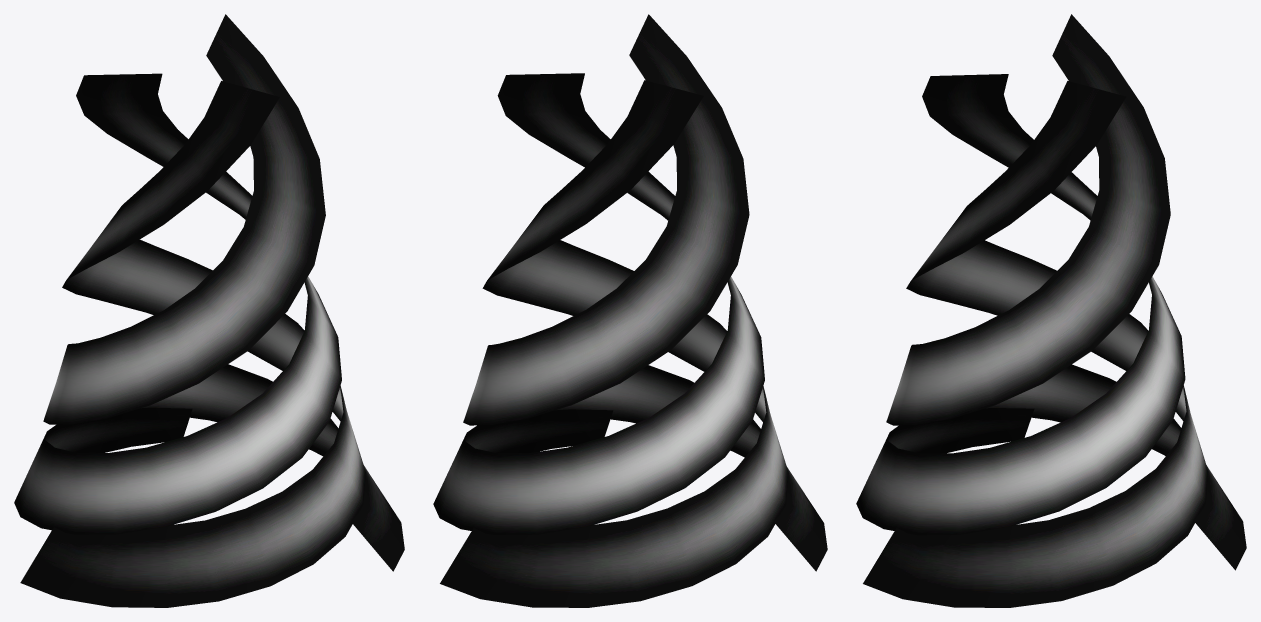
File: vfx_kurp_0352.dae
3 views of the same model, side by side, from view 1: azimuth 30°, elevation 25°; view 2: azimuth 150°, elevation 25°; view 3: azimuth 270°, elevation 25° (orthographic).
Visible parts, largest first — view 1: vfx_kurp_0352; view 2: vfx_kurp_0352; view 3: vfx_kurp_0352.
Part boxes in pixels (bbox=[...]): vfx_kurp_0352: bbox=[14, 14, 404, 607]; vfx_kurp_0352: bbox=[433, 14, 827, 607]; vfx_kurp_0352: bbox=[856, 14, 1246, 607].
Bounding box in the file's own units: 7.28 × 6.92 × 9.19.
Materials: 1 (1 with a texture image).
